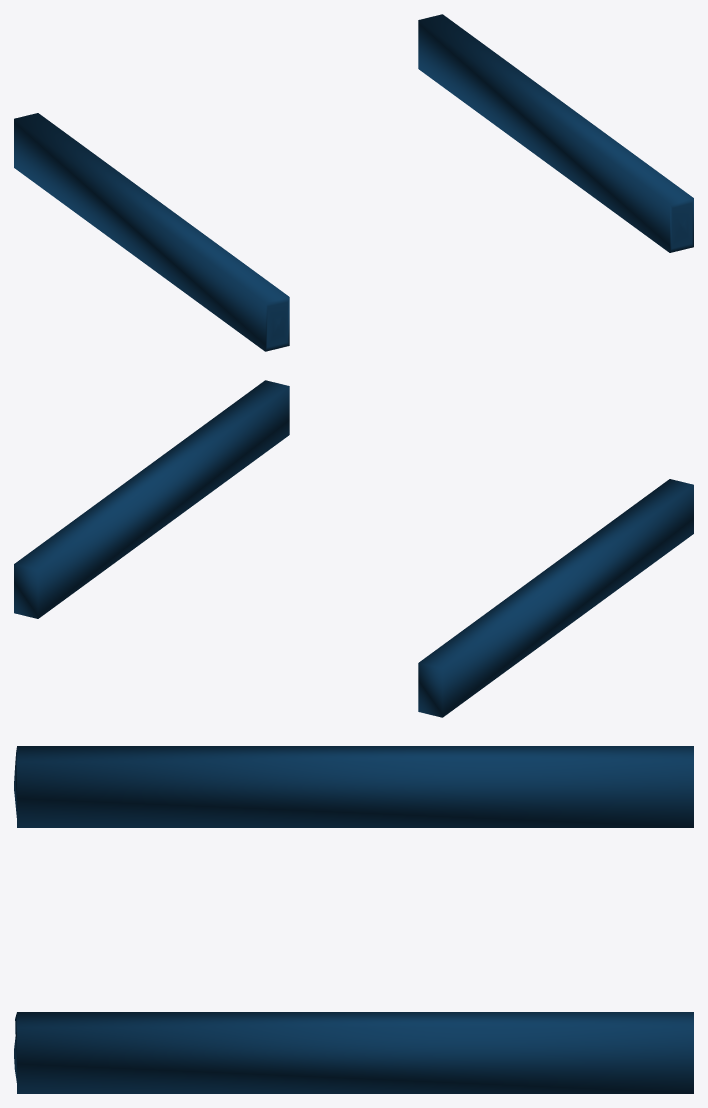
Rendered from conveyor recto suelo.fbx.
3 renders of one model, top to bottom at view 1: azimuth 30°, elevation 25°; view 2: azimuth 150°, elevation 25°; view 3: azimuth 270°, elevation 25°, orthographic. The views are drawn at different scales.
Visible parts, largest first — view 1: Belt; view 2: Belt; view 3: Belt.
Part boxes in pixels (bbox=[...]): Belt: bbox=[14, 14, 693, 351]; Belt: bbox=[14, 380, 693, 717]; Belt: bbox=[14, 746, 693, 1093].
Size of the model in its own units: 786 by 85.89 by 801.
